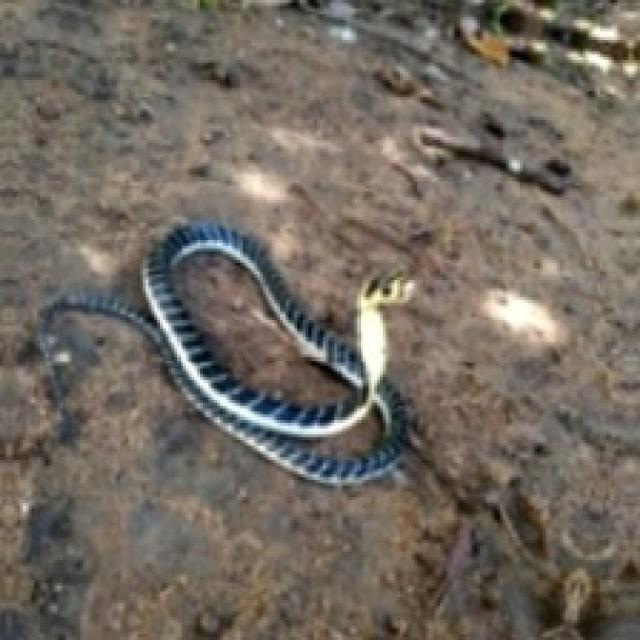king cobra: (40, 223, 409, 483)
